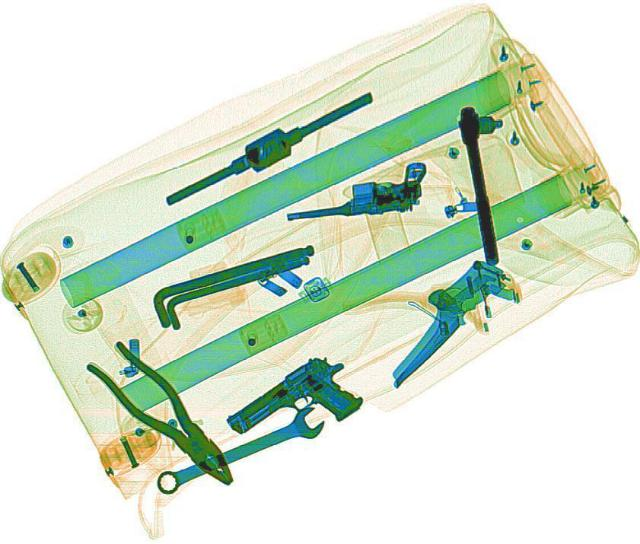Gun: (218, 348, 376, 463), (278, 159, 432, 221)
Pliers: (78, 334, 256, 491)
Wrench: (145, 399, 331, 500)
